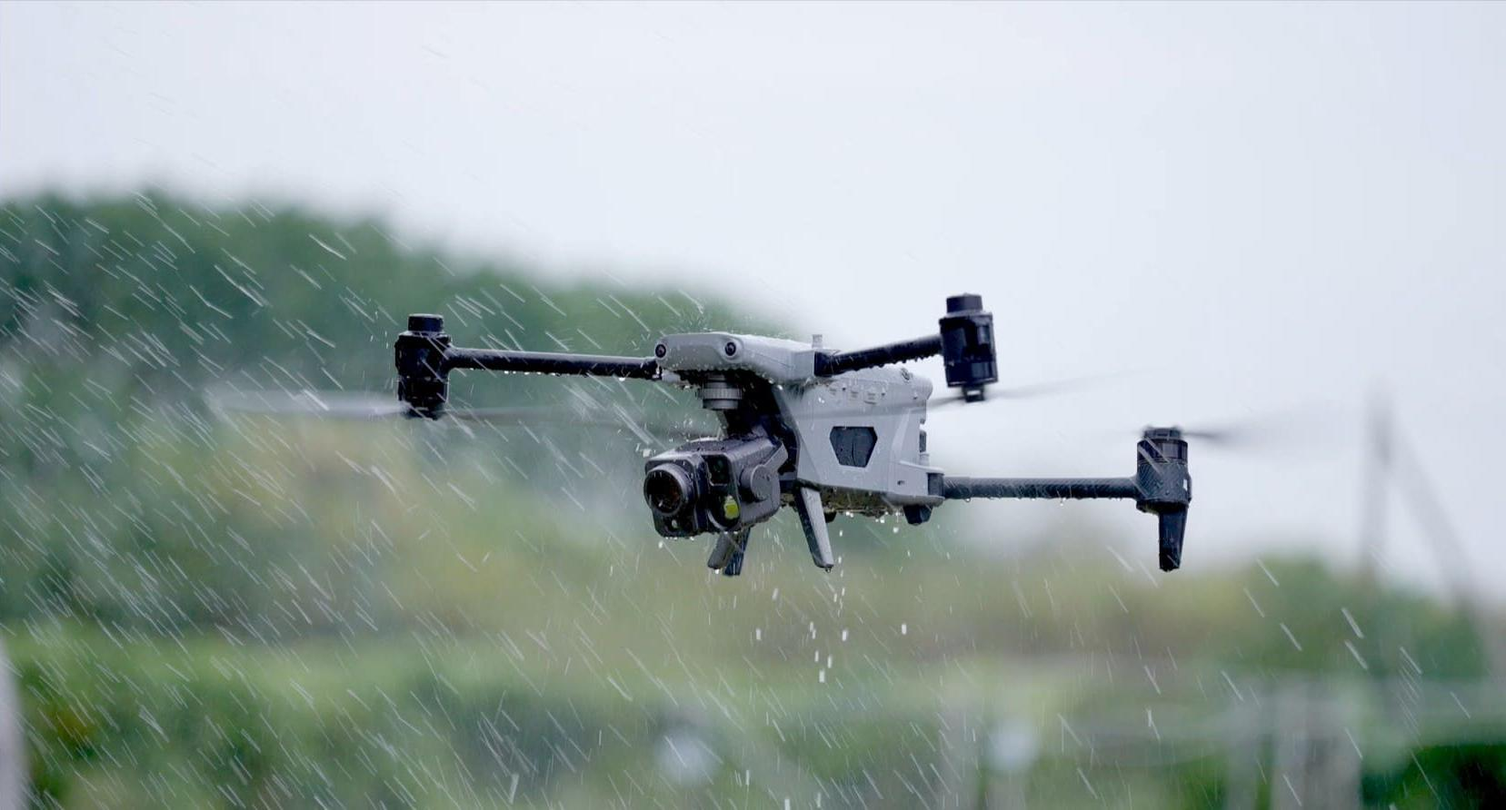Drone: (382, 271, 1225, 589)
